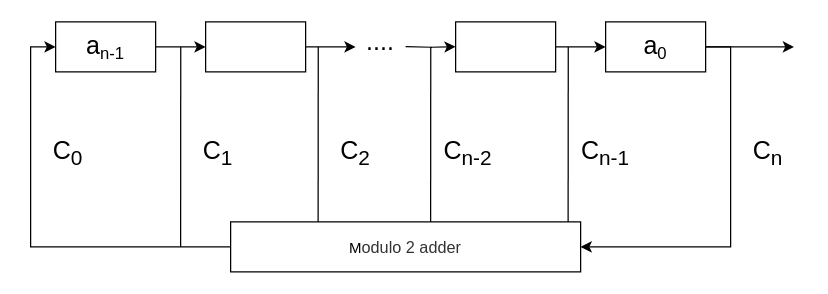
Image size: 828x294. Some labels were removed from this diagram. Each missing label, with the centre of its shape:
"a 1" goes at [505,46].
"a n-2" goes at [255,46].
